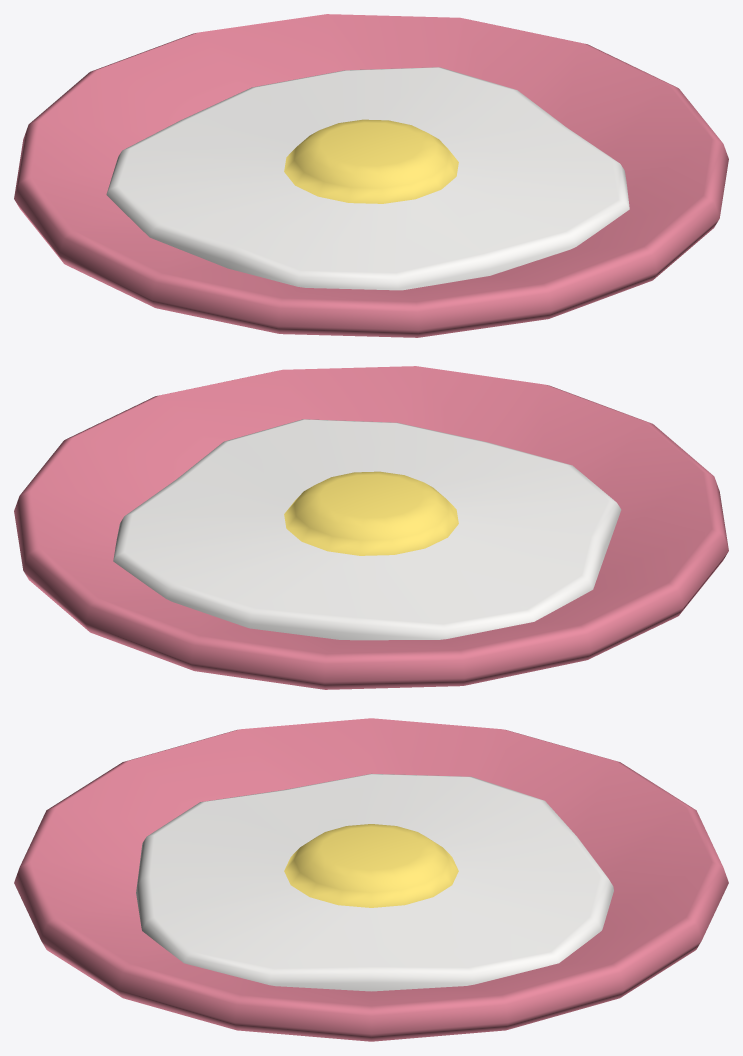
File: Plate_with_egg_1.glb
3 views of the same model, one above another, from view 1: azimuth 30°, elevation 25°; view 2: azimuth 150°, elevation 25°; view 3: azimuth 270°, elevation 25° (orthographic).
Visible parts, largest first — view 1: Plate_with_egg_1; view 2: Plate_with_egg_1; view 3: Plate_with_egg_1.
Part boxes in pixels (x1,y1,x2,y2): Plate_with_egg_1: (14, 14, 728, 337); Plate_with_egg_1: (14, 366, 728, 689); Plate_with_egg_1: (14, 718, 728, 1041).
Size of the model in its own units: 0.4627 by 0.0618 by 0.4627.
1 material, 1 textured.
